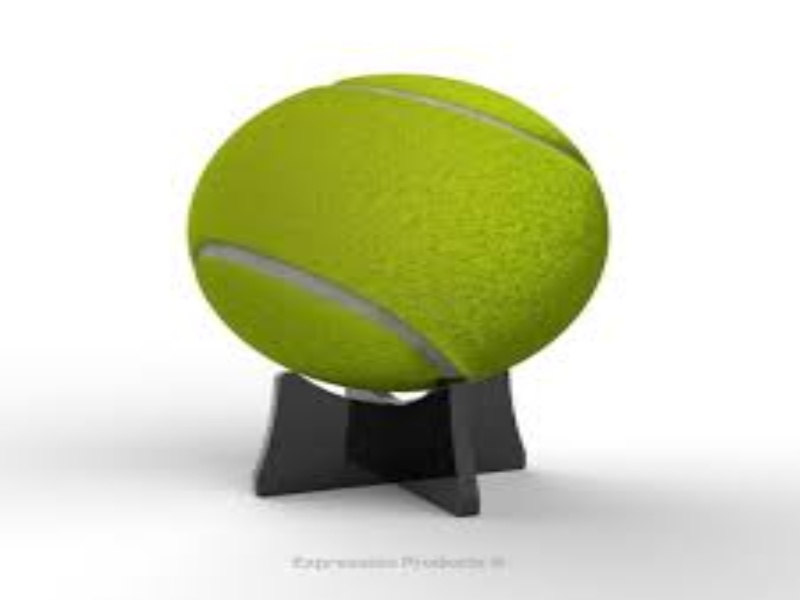tennis ball: (175, 58, 618, 394)
